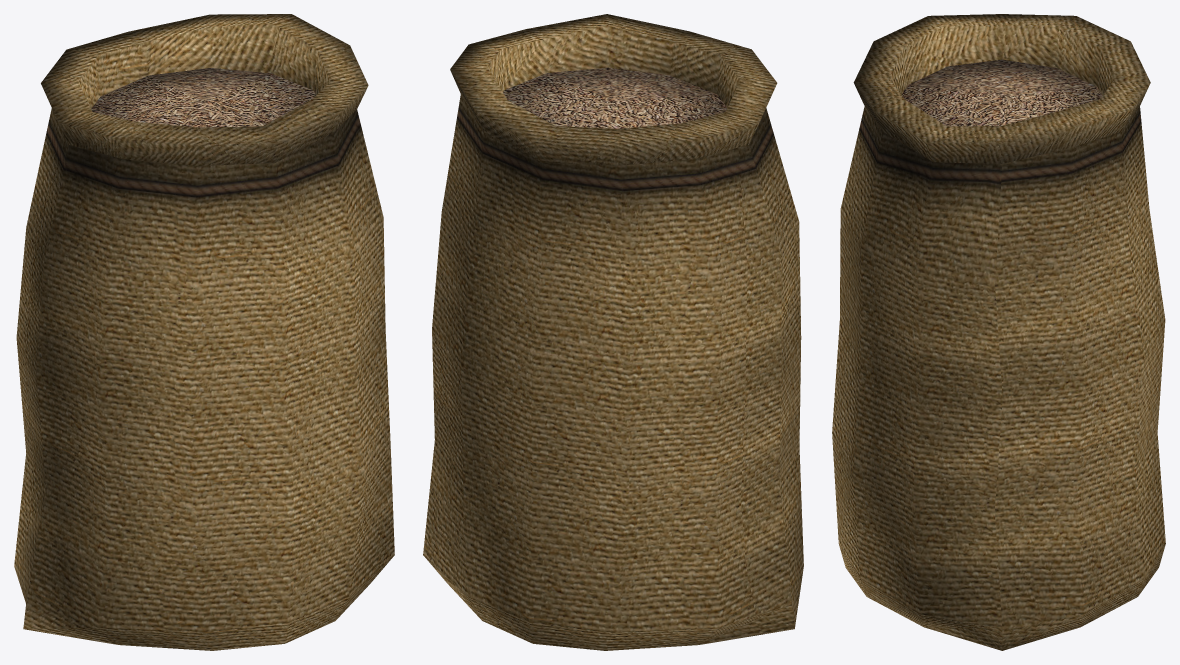
File: sack01.FBX
3 views of the same model, side by side, from view 1: azimuth 30°, elevation 25°; view 2: azimuth 150°, elevation 25°; view 3: azimuth 270°, elevation 25° (orthographic). The views are drawn at different scales.
Visible parts, largest first — view 1: zsak01; view 2: zsak01; view 3: zsak01.
Part boxes in pixels (x1,y1,x2,y2): zsak01: (14,14,394,650); zsak01: (423,14,803,650); zsak01: (832,14,1165,650).
Size of the model in its own units: 23.38 by 19.29 by 32.05.
Materials: 1 (1 with a texture image).
